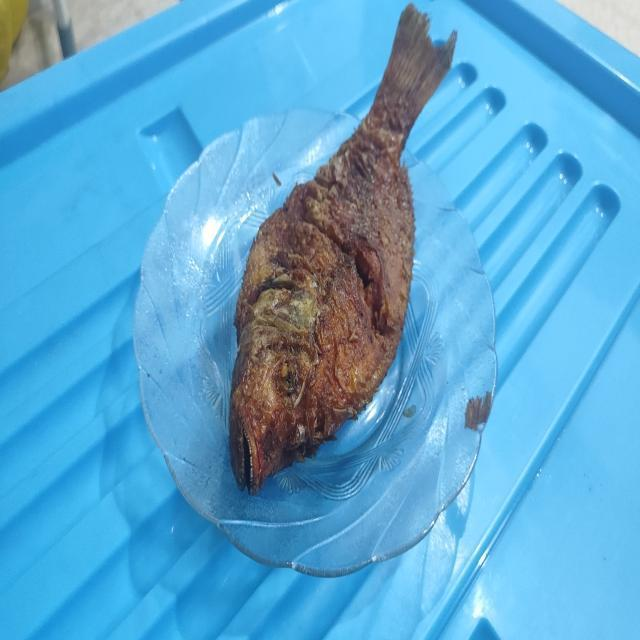ikan_mujair: (229, 4, 456, 494)
